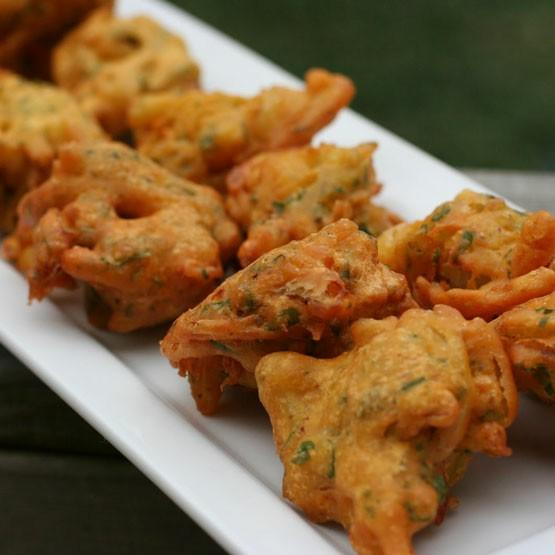OnionPakoda: (0, 0, 553, 555)
